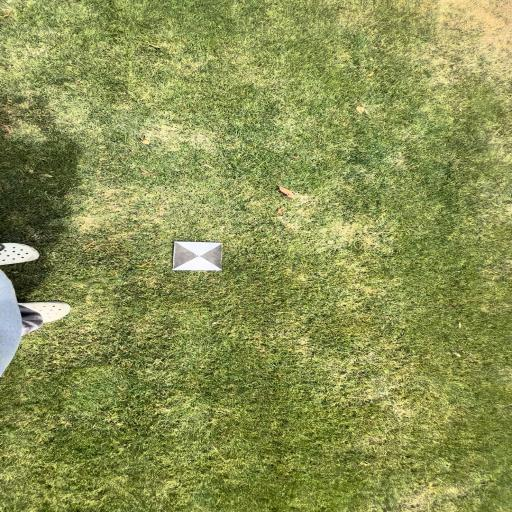target: (171, 241, 223, 271)
